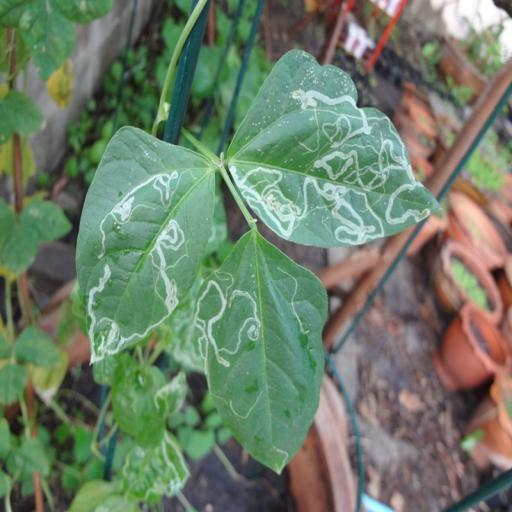disease_tomato: (226, 47, 436, 248), (75, 126, 217, 370), (194, 234, 328, 474)
